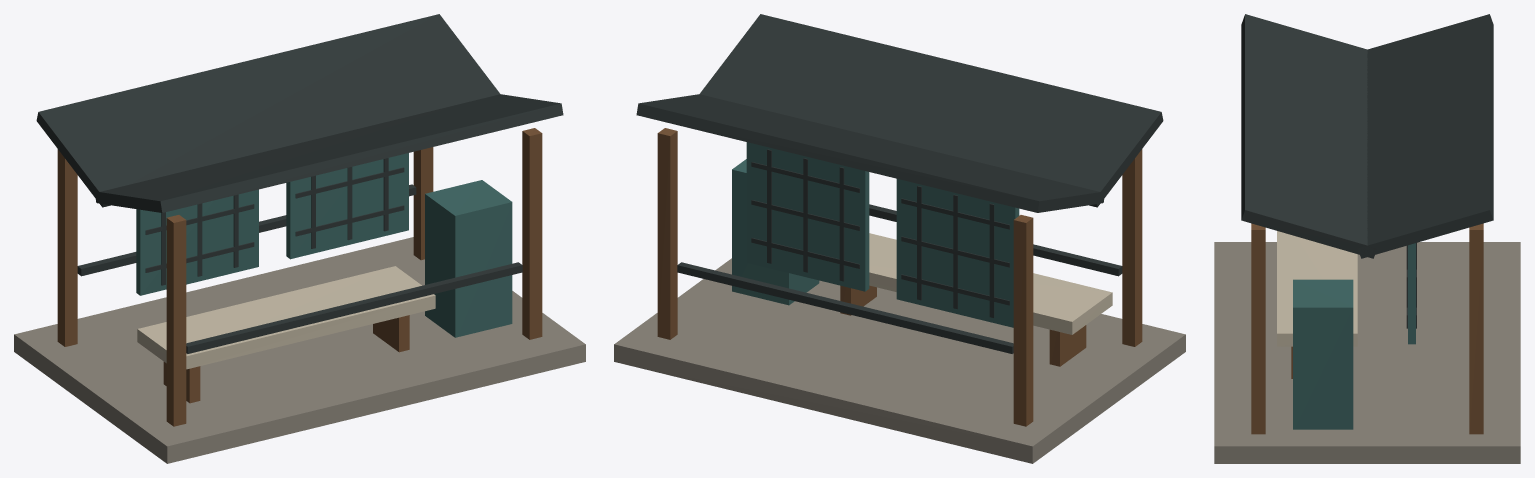
File: Net-Station.glb
3 views of the same model, side by side, from view 1: azimuth 30°, elevation 25°; view 2: azimuth 150°, elevation 25°; view 3: azimuth 270°, elevation 25° (orthographic).
Parts seen in each view (by area): view 1: net-station-static-net-station-charcoal-roof-rails, net-station-static-net-station-pale-stone-slab, net-station-static-net-station-muted-teal-lattice-cabinet, net-station-static-net-station-warm-timber-frame, net-station-static-net-station-cream-work-surface; view 2: net-station-static-net-station-charcoal-roof-rails, net-station-static-net-station-pale-stone-slab, net-station-static-net-station-muted-teal-lattice-cabinet, net-station-static-net-station-warm-timber-frame, net-station-static-net-station-cream-work-surface; view 3: net-station-static-net-station-charcoal-roof-rails, net-station-static-net-station-pale-stone-slab, net-station-static-net-station-muted-teal-lattice-cabinet, net-station-static-net-station-warm-timber-frame, net-station-static-net-station-cream-work-surface.
Part boxes in pixels (x1,y1,x2,y2): net-station-static-net-station-charcoal-roof-rails: [36, 14, 563, 353]; net-station-static-net-station-pale-stone-slab: [14, 237, 585, 463]; net-station-static-net-station-muted-teal-lattice-cabinet: [136, 153, 512, 337]; net-station-static-net-station-warm-timber-frame: [57, 128, 542, 426]; net-station-static-net-station-cream-work-surface: [137, 266, 435, 369]; net-station-static-net-station-charcoal-roof-rails: [636, 14, 1163, 353]; net-station-static-net-station-pale-stone-slab: [614, 258, 1185, 463]; net-station-static-net-station-muted-teal-lattice-cabinet: [732, 142, 1019, 327]; net-station-static-net-station-warm-timber-frame: [657, 128, 1142, 426]; net-station-static-net-station-cream-work-surface: [869, 233, 1112, 334]; net-station-static-net-station-charcoal-roof-rails: [1241, 14, 1493, 328]; net-station-static-net-station-pale-stone-slab: [1214, 242, 1520, 463]; net-station-static-net-station-muted-teal-lattice-cabinet: [1293, 243, 1415, 429]; net-station-static-net-station-warm-timber-frame: [1251, 223, 1483, 434]; net-station-static-net-station-cream-work-surface: [1277, 231, 1357, 346].
Bounding box in the file's own units: 6 × 3.41 × 3.8.
